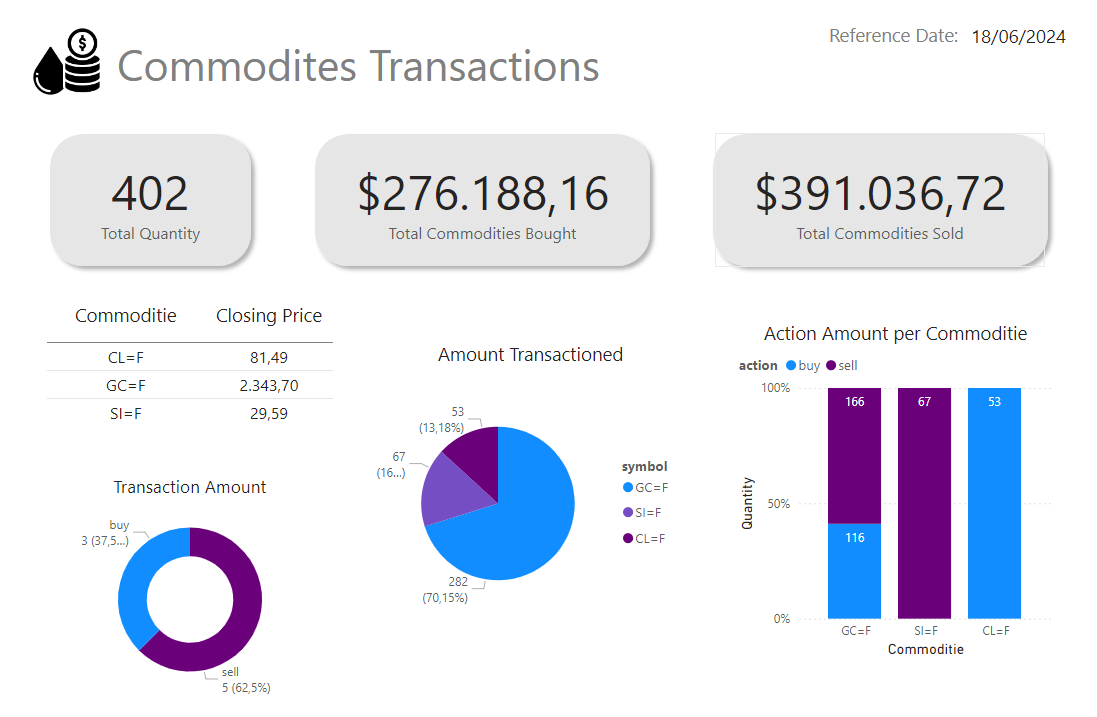

Layout of this report page (visuals, bound fields, positions):
{"tool":"powerbi","page":{"name":"Página 1","canvas":[1100,720],"ordinal":0},"visuals":[{"type":"shape","box":[705.5,125.5,352.7,150],"z":0},{"type":"shape","box":[306.8,125.5,352.7,150],"z":1000},{"type":"shape","box":[41.8,125.5,219.1,150],"z":2000},{"type":"card","fields":{"Values":["commodities_data_202406191215._value_bought"]},"box":[316.4,133.7,334.5,134.5],"z":3000},{"type":"textbox","box":[112.7,31,669.1,75.5],"z":4000},{"type":"image","box":[21.8,21,90.9,82.7],"z":5000},{"type":"card","fields":{"Values":["Sum(commodities_data_202406191215.quantity)"]},"box":[41.8,133.7,219.1,134.5],"z":6000},{"type":"textbox","box":[825.5,18.2,151.8,40],"z":7000},{"type":"card","fields":{"Values":["commodities_data_202406191215.date_ref"]},"box":[964.5,22.7,109.1,31.8],"z":8000},{"type":"donutChart","title":"Transaction Amount","fields":{"Y":["CountNonNull(commodities_data_202406191215.action)"],"Category":["commodities_data_202406191215.action"]},"box":[41.8,475.5,298.2,227.3],"z":9000},{"type":"pieChart","title":"Amount Transactioned","fields":{"Y":["Sum(commodities_data_202406191215.quantity)"],"Category":["commodities_data_202406191215.symbol"]},"box":[370,341.8,322.7,300],"z":10000},{"type":"card","fields":{"Values":["commodities_data_202406191215._value_sold"]},"box":[716.4,133.7,330,134.5],"z":11000},{"type":"tableEx","fields":{"Values":["commodities_data_202406191215.symbol","Max(commodities_data_202406191215.closing_price)"]},"box":[41.8,295.5,298.2,159.1],"z":12000},{"type":"hundredPercentStackedColumnChart","title":"Action Amount per Commoditie","fields":{"Category":["commodities_data_202406191215.symbol"],"Y":["Sum(commodities_data_202406191215.quantity)"],"Series":["commodities_data_202406191215.action"]},"box":[735.5,320.9,322.7,341.8],"z":13000}]}

Visuals, with their boxes in screenshot pixels (x1, y1, x2, y2), scaled from the page's 1100x720 canvas onto the 1097x717 screenshot:
shape: 704,125,1055,274
shape: 306,125,658,274
shape: 42,125,260,274
card - commodities_data_202406191215._value_bought: 316,133,649,267
textbox: 112,31,780,106
image: 22,21,112,103
card - Sum(commodities_data_202406191215.quantity): 42,133,260,267
textbox: 823,18,975,58
card - commodities_data_202406191215.date_ref: 962,23,1071,54
"Transaction Amount" donutChart: 42,474,339,700
"Amount Transactioned" pieChart: 369,340,691,639
card - commodities_data_202406191215._value_sold: 714,133,1044,267
tableEx - commodities_data_202406191215.symbol x Max(commodities_data_202406191215.closing_price): 42,294,339,453
"Action Amount per Commoditie" hundredPercentStackedColumnChart: 733,320,1055,660
